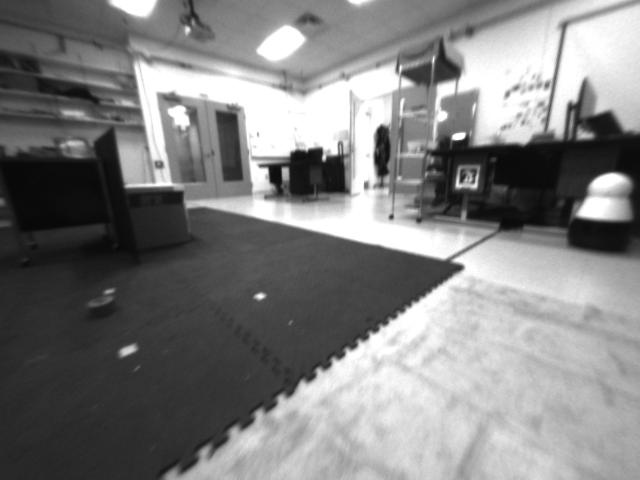dogtoy: (78, 288, 120, 326)
